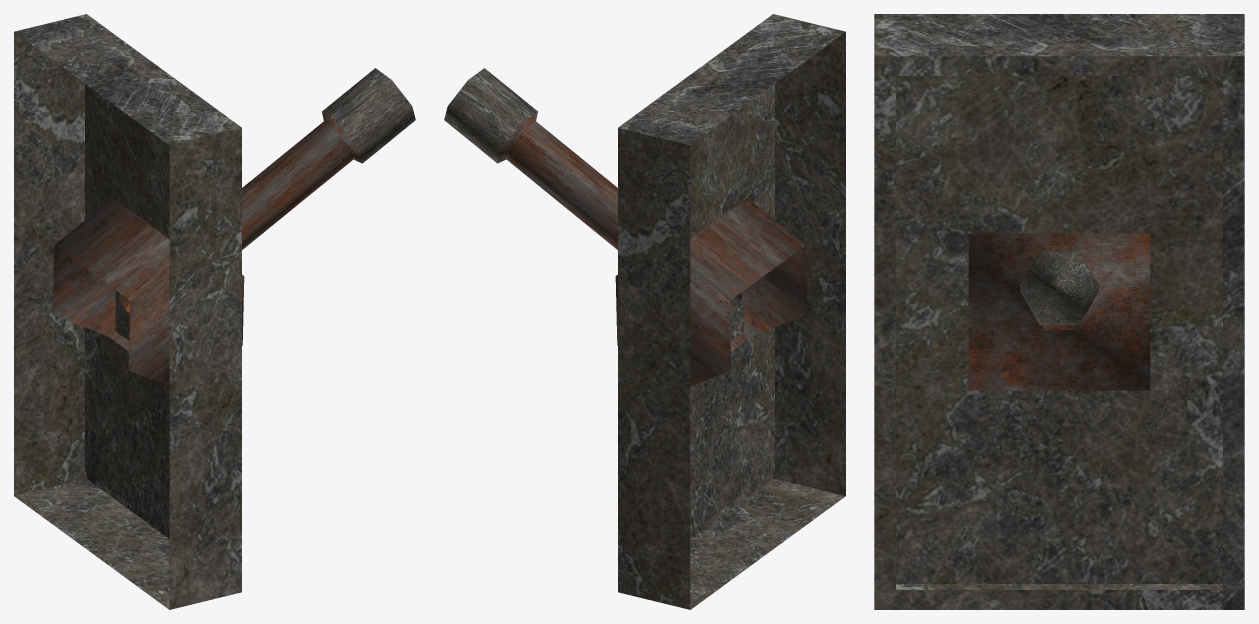
The model's file is lever_anim2.obj.
3 renders of one model, left to right at view 1: azimuth 30°, elevation 25°; view 2: azimuth 150°, elevation 25°; view 3: azimuth 270°, elevation 25°, orthographic. The views are drawn at different scales.
Parts seen in each view (by area): view 1: Cube, Cylinder; view 2: Cube, Cylinder; view 3: Cube, Cylinder.
Part boxes in pixels (bbox=[...]): Cube: bbox=[14, 14, 241, 609]; Cylinder: bbox=[52, 68, 415, 386]; Cube: bbox=[618, 14, 845, 609]; Cylinder: bbox=[444, 68, 807, 386]; Cube: bbox=[874, 14, 1244, 609]; Cylinder: bbox=[968, 233, 1150, 390].
Bounding box in the file's own units: 1.43 × 2 × 1.21.
Materials: 2 (2 with a texture image).
